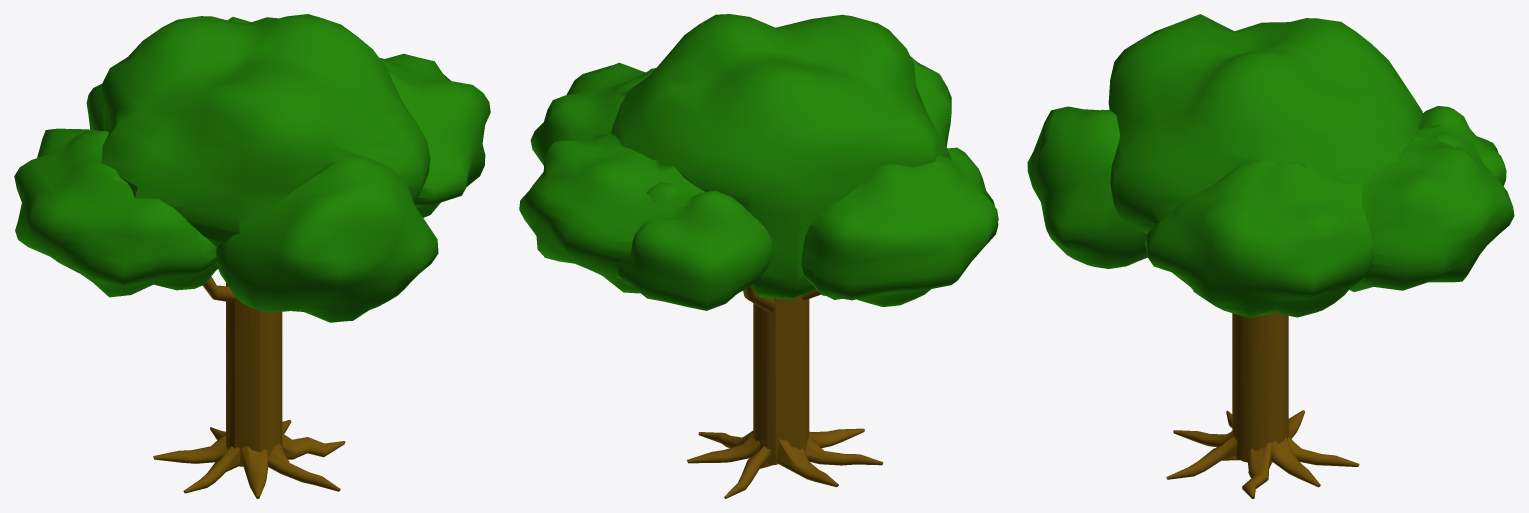
Rendered from boompje.fbx.
3 renders of one model, left to right at view 1: azimuth 30°, elevation 25°; view 2: azimuth 150°, elevation 25°; view 3: azimuth 270°, elevation 25°, orthographic.
Visible parts, largest first — view 1: boom; view 2: boom; view 3: boom.
Boxes of the visible parts, left/top/right/bottom form: boom: left=14, top=14, right=490, bottom=498; boom: left=519, top=14, right=998, bottom=498; boom: left=1027, top=14, right=1514, bottom=498.
Size of the model in its own units: 20.81 by 19.54 by 20.02.
